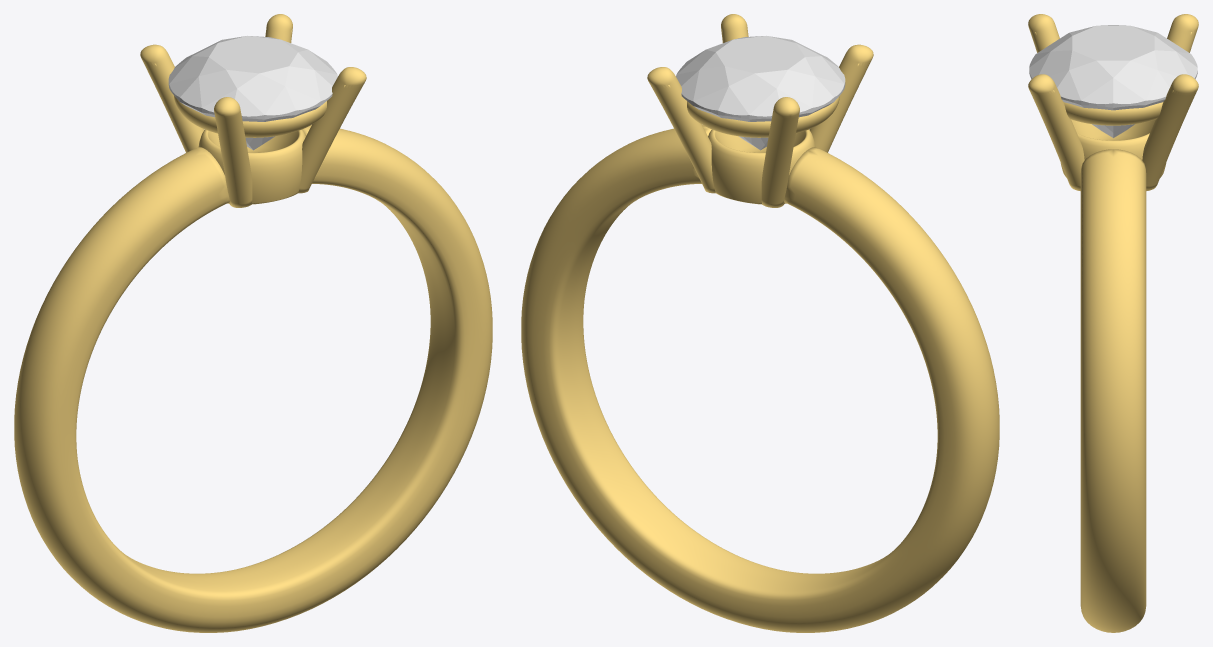
File: diamond-round-yellowgold-4prong-straightband-nosidestones.glb
3 renders of one model, left to right at view 1: azimuth 30°, elevation 25°; view 2: azimuth 150°, elevation 25°; view 3: azimuth 270°, elevation 25°, orthographic.
Parts seen in each view (by area): view 1: metal, stone; view 2: metal, stone; view 3: metal, stone.
Boxes of the visible parts, x1,y1,x2,y2 form: metal: (14, 14, 492, 632); stone: (168, 35, 337, 150); metal: (521, 14, 999, 632); stone: (676, 35, 845, 150); metal: (1028, 14, 1198, 632); stone: (1029, 25, 1197, 137).
Size of the model in its own units: 20.5 by 23.81 by 6.52.
